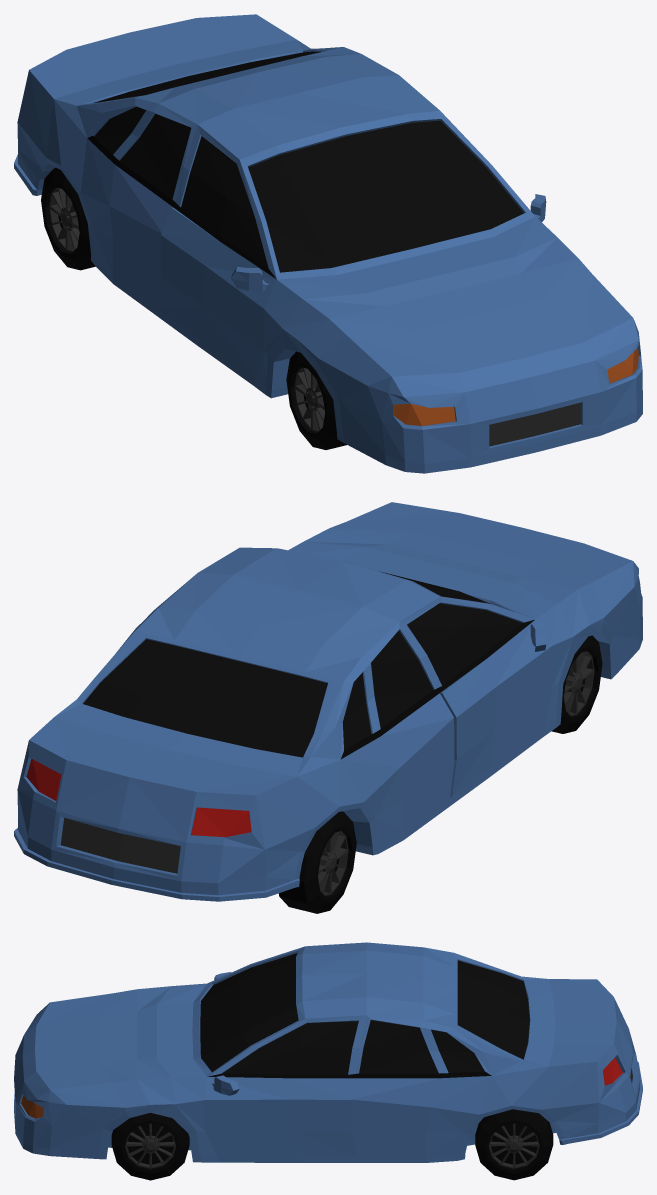
File: NormalCar1.obj
3 views of the same model, one above another, from view 1: azimuth 30°, elevation 25°; view 2: azimuth 150°, elevation 25°; view 3: azimuth 270°, elevation 25° (orthographic). The views are drawn at different scales.
Parts seen in each view (by area): view 1: NormalCar1_Cube.012, NormalCar1_BackWheels_Cube.011, NormalCar1_FrontRightWheel_Cube.008; view 2: NormalCar1_Cube.012, NormalCar1_BackWheels_Cube.011, NormalCar1_FrontRightWheel_Cube.008; view 3: NormalCar1_Cube.012, NormalCar1_BackWheels_Cube.011, NormalCar1_FrontLeftWheel_Cube.007.
Boxes of the visible parts, left/top/right/bottom form: NormalCar1_Cube.012: left=14, top=14, right=642, bottom=473; NormalCar1_BackWheels_Cube.011: left=41, top=167, right=95, bottom=270; NormalCar1_FrontRightWheel_Cube.008: left=286, top=351, right=346, bottom=449; NormalCar1_Cube.012: left=14, top=502, right=642, bottom=901; NormalCar1_BackWheels_Cube.011: left=278, top=811, right=356, bottom=913; NormalCar1_FrontRightWheel_Cube.008: left=552, top=635, right=602, bottom=733; NormalCar1_Cube.012: left=14, top=942, right=642, bottom=1162; NormalCar1_BackWheels_Cube.011: left=475, top=1109, right=553, bottom=1180; NormalCar1_FrontLeftWheel_Cube.007: left=111, top=1112, right=189, bottom=1180.
Bounding box in the file's own units: 1.81 × 1.18 × 4.22.
